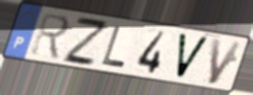4: (134, 29, 167, 76)
L: (100, 24, 127, 70)
R: (29, 11, 72, 62)
V: (207, 37, 244, 86), (175, 31, 211, 81)
Z: (61, 14, 109, 68)
